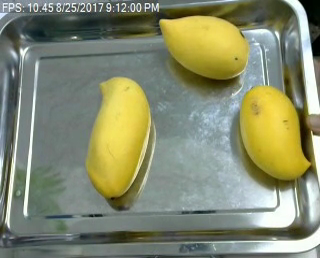Mango: (83, 73, 153, 200), (238, 83, 315, 185), (156, 13, 251, 78)
